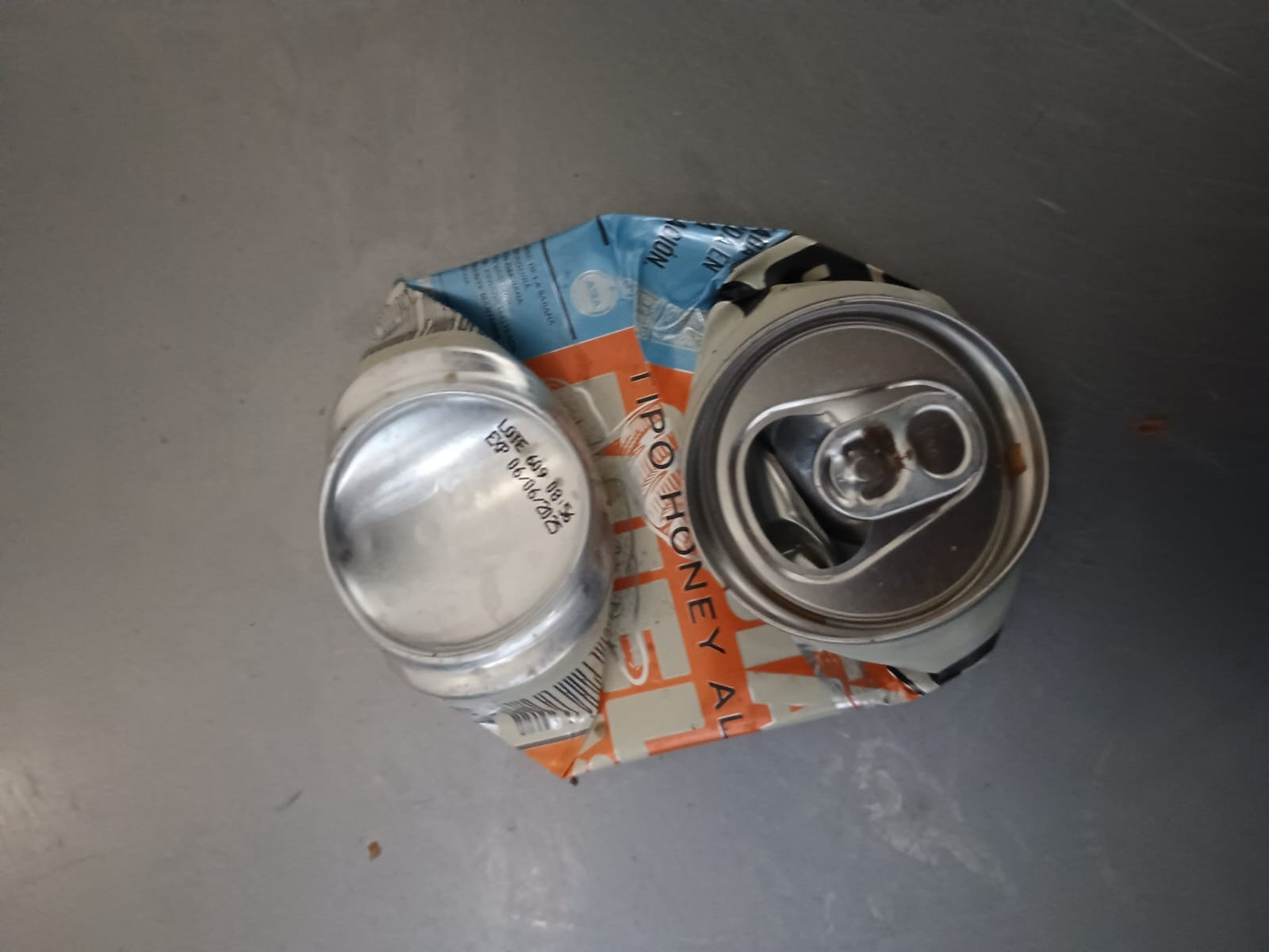Metal: (317, 215, 1051, 774)
